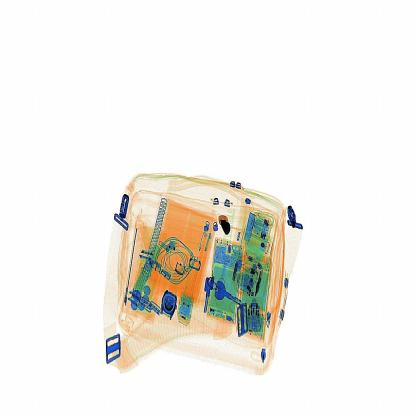wrench: (214, 209, 245, 240)
